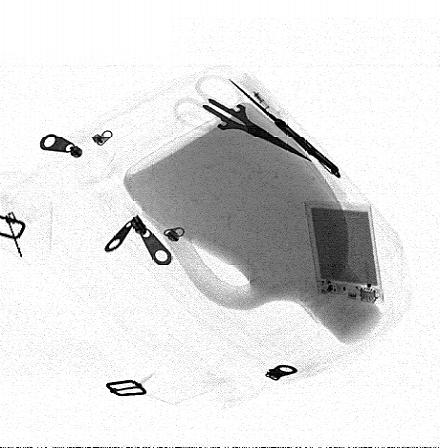Knife: (225, 76, 342, 177)
Powerbank: (302, 200, 386, 300)
Scissors: (171, 75, 315, 162)
